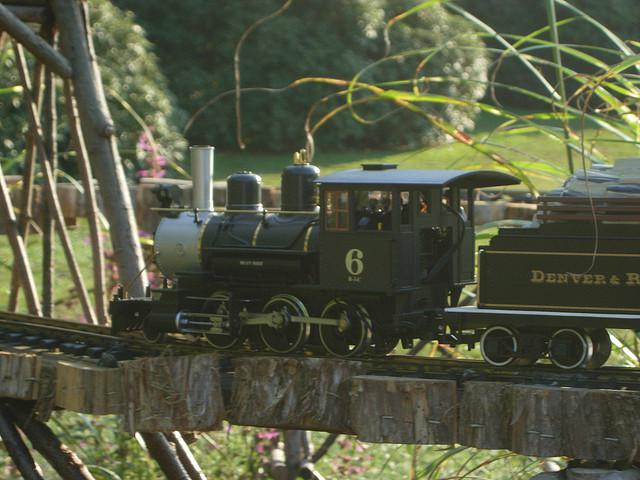Train: (145, 145, 640, 370)
